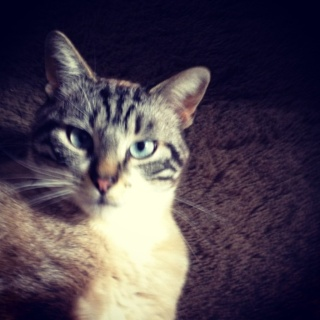Cat: (0, 27, 216, 320)
